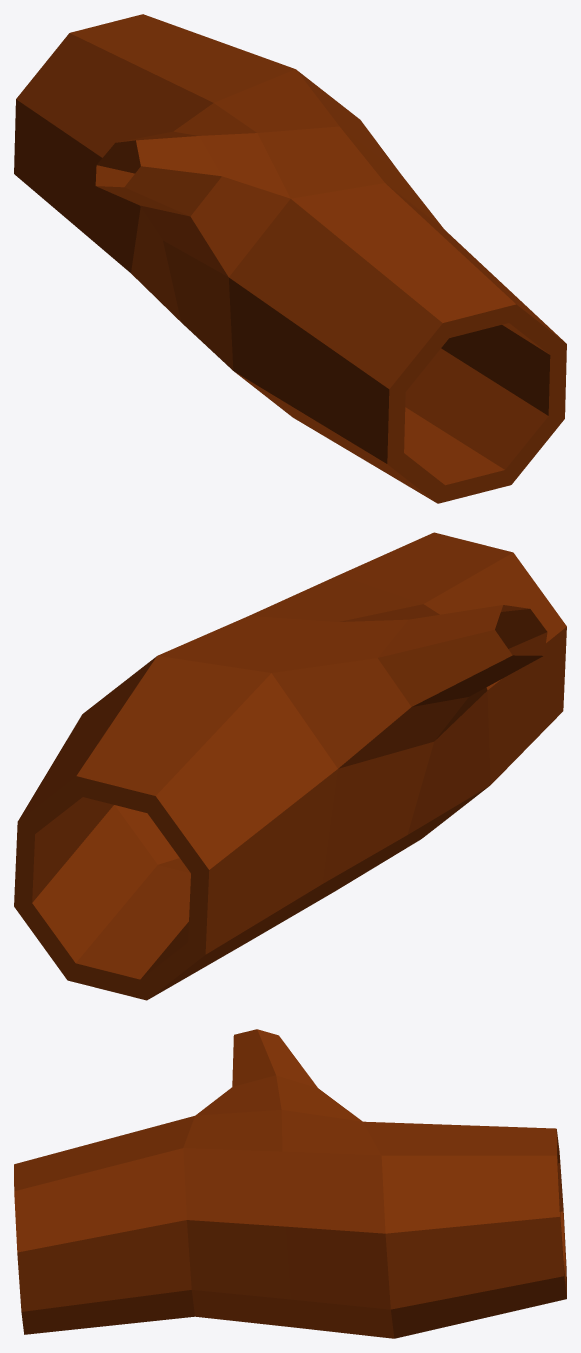
The model's file is F_TreeStump.fbx.
3 renders of one model, top to bottom at view 1: azimuth 30°, elevation 25°; view 2: azimuth 150°, elevation 25°; view 3: azimuth 270°, elevation 25°, orthographic. The views are drawn at different scales.
Parts seen in each view (by area): view 1: F_TreeStump; view 2: F_TreeStump; view 3: F_TreeStump.
Part boxes in pixels (<box>): F_TreeStump: <box>14,14,566,503</box>; F_TreeStump: <box>14,532,566,1000</box>; F_TreeStump: <box>14,1029,566,1338</box>.
Size of the model in its own units: 361 by 287 by 647.
